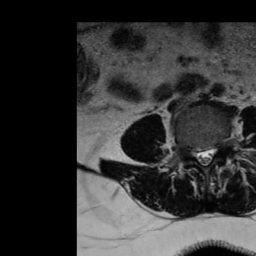CCS_normal: (200, 145, 209, 171)
LFS_severe_stenosis: (216, 136, 224, 155)
LLS_normal: (210, 142, 216, 163)
RFS_severe_stenosis: (183, 141, 192, 158)
RLS_stenosis: (193, 145, 200, 166)
